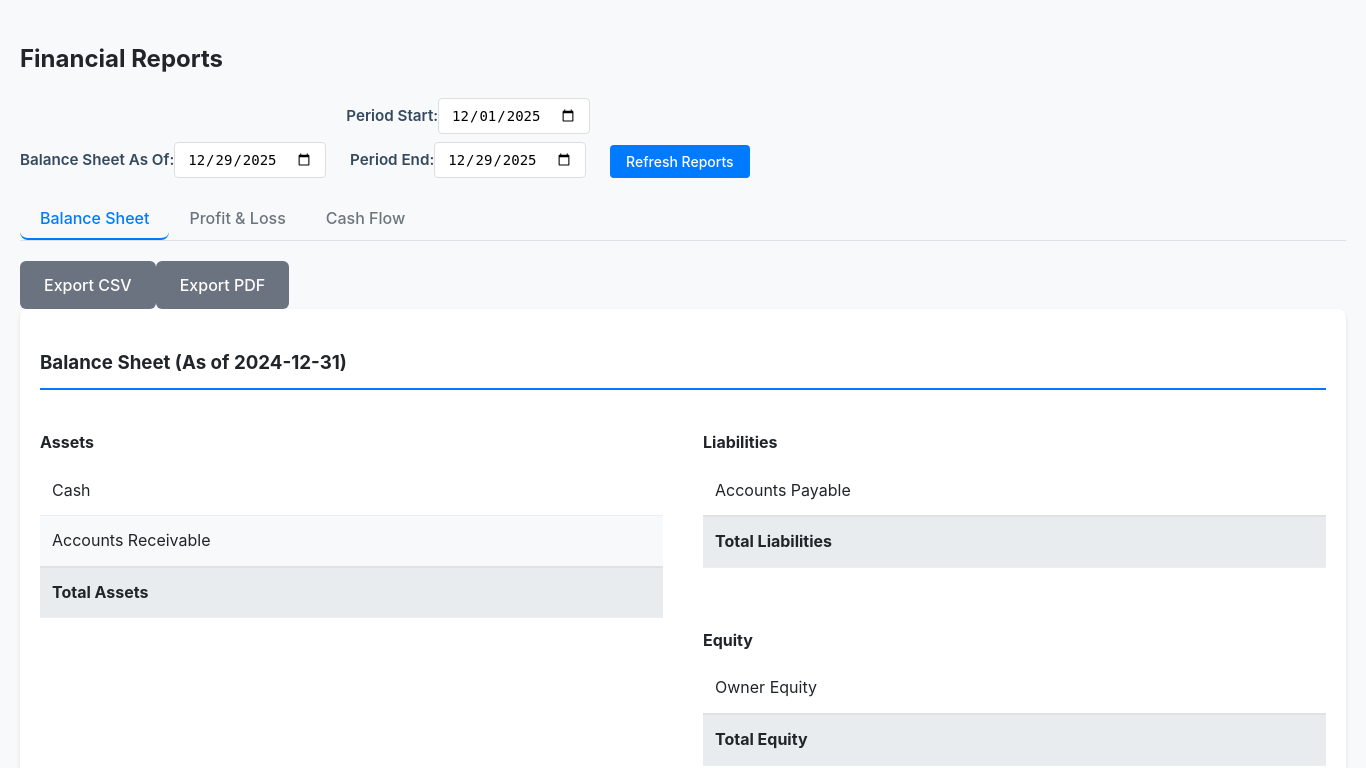
Test: Reports › Tab Navigation › switches to profit & loss tab
expect the heading "Balance Sheet (As of 2024-12-31)" is shown: met, box 40,348 -> 1326,390
What coordinates should you click on to do the following:
click the button "Profit & Loss"
I would click on:
 (238, 219)
Its box is 169,198 -> 306,240.
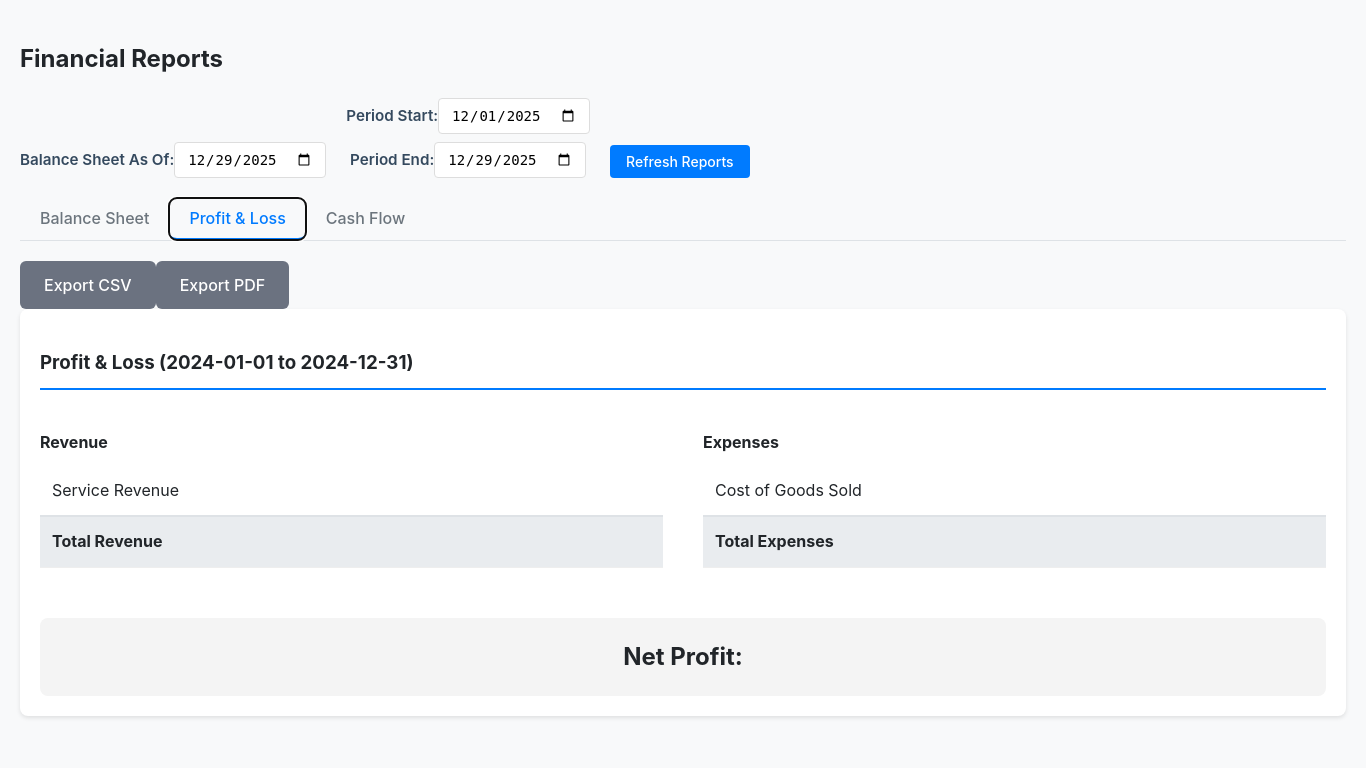
expect the heading "Profit & Loss (2024-01-01 to 2024-12-31)" is shown: met, box 40,348 -> 1326,390
expect the heading "Revenue" is shown: met, box 40,432 -> 108,452
expect the heading "Expenses" is shown: met, box 703,432 -> 779,452
